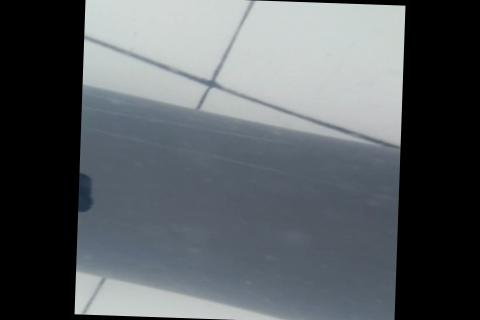kebocoran: (77, 167, 95, 229)
